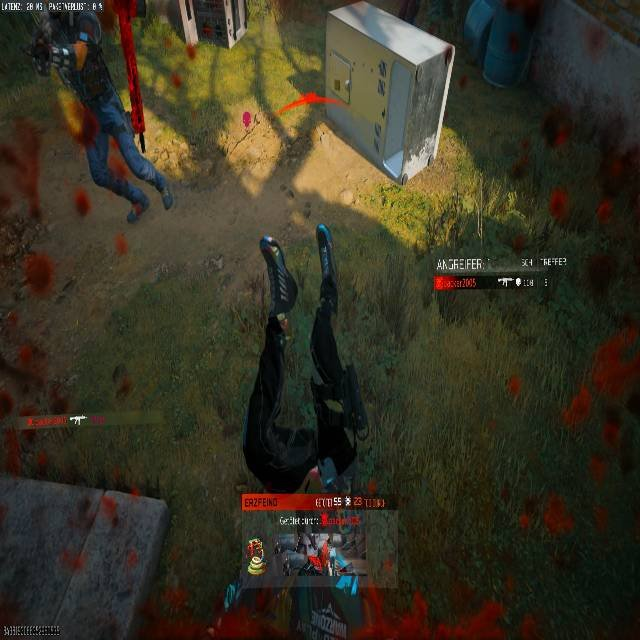player: (32, 0, 175, 224), (29, 26, 55, 81)
